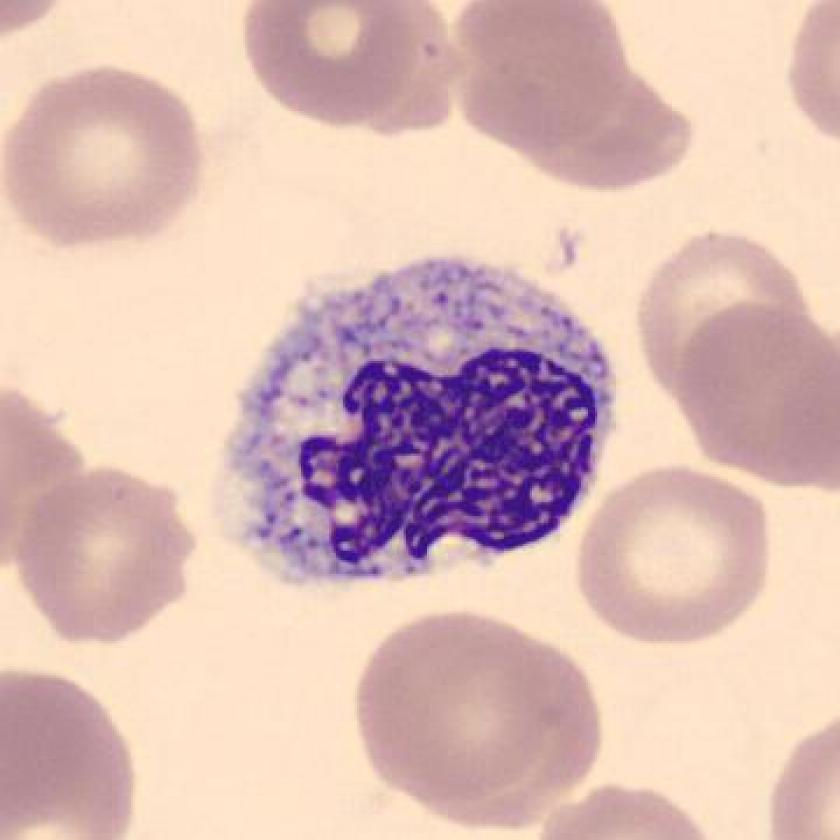monocyte: (202, 235, 633, 603)
